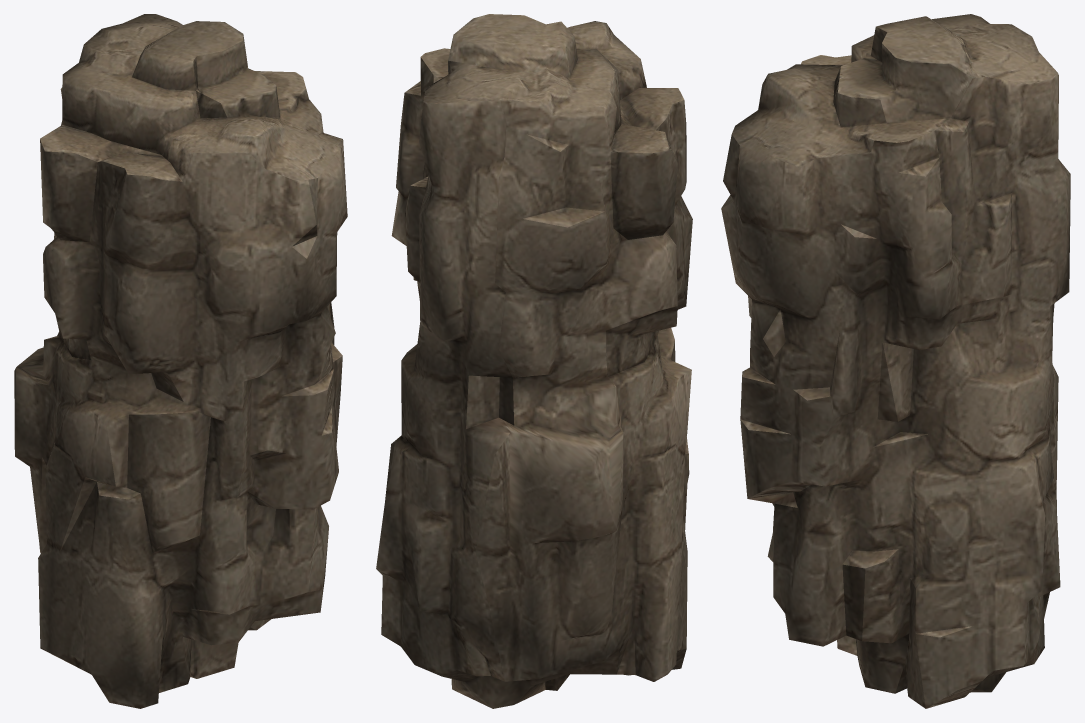
File: environment_stone_qiaobi_002_e.FBX
3 views of the same model, side by side, from view 1: azimuth 30°, elevation 25°; view 2: azimuth 150°, elevation 25°; view 3: azimuth 270°, elevation 25° (orthographic). The views are drawn at different scales.
Visible parts, largest first — view 1: environment_stone_qiaobi_002_e; view 2: environment_stone_qiaobi_002_e; view 3: environment_stone_qiaobi_002_e.
Part boxes in pixels (x1,y1,x2,y2): environment_stone_qiaobi_002_e: [14, 14, 347, 708]; environment_stone_qiaobi_002_e: [376, 14, 692, 708]; environment_stone_qiaobi_002_e: [721, 14, 1070, 708].
Bounding box in the file's own units: 257 × 578 × 284.
